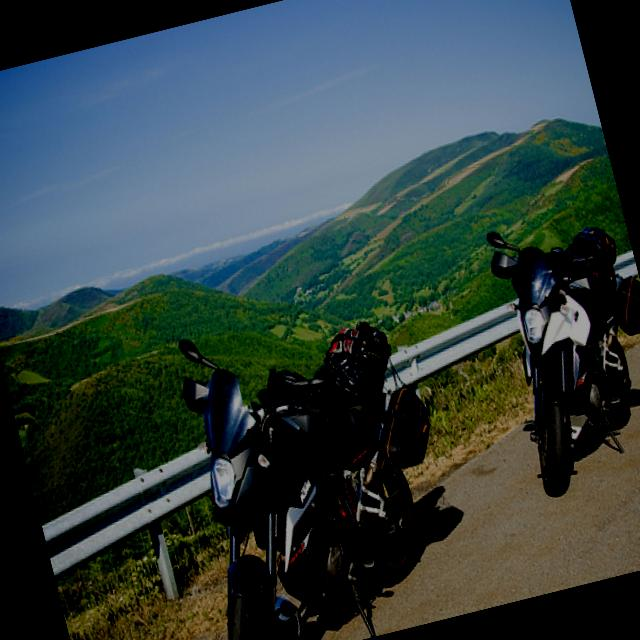Vehicle: (136, 276, 466, 640), (477, 188, 640, 494)
